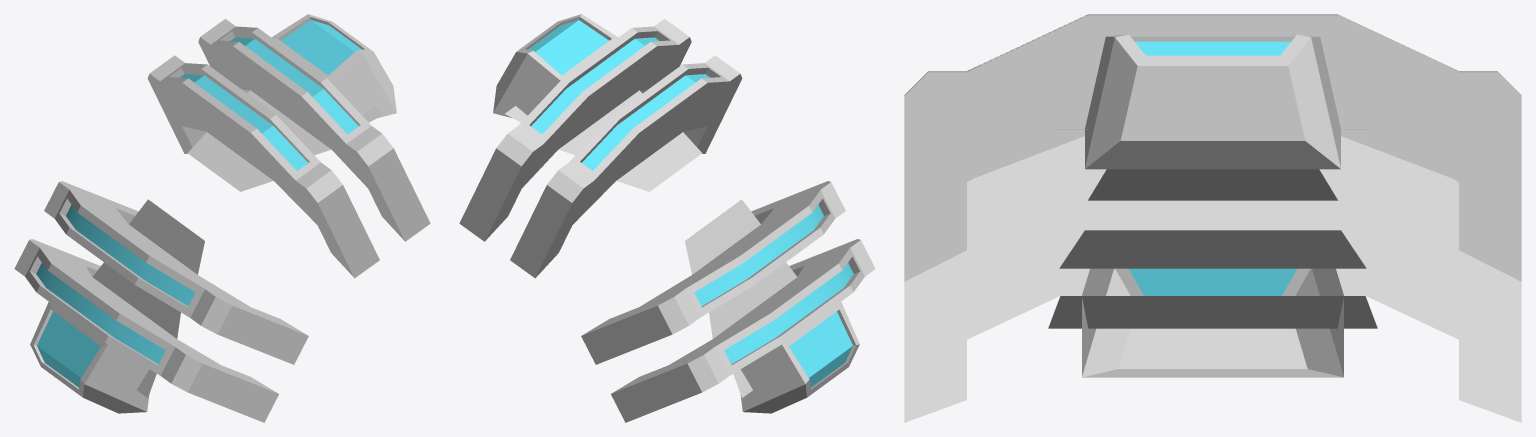
File: Mod_Pauldron_R_Forge1.fbx
3 renders of one model, left to right at view 1: azimuth 30°, elevation 25°; view 2: azimuth 150°, elevation 25°; view 3: azimuth 270°, elevation 25°, orthographic. The views are drawn at different scales.
Parts seen in each view (by area): view 1: Mod_Pauldron_R_Forge1; view 2: Mod_Pauldron_R_Forge1; view 3: Mod_Pauldron_R_Forge1.
Part boxes in pixels (<box>): Mod_Pauldron_R_Forge1: <box>14,14,430,422</box>; Mod_Pauldron_R_Forge1: <box>459,14,875,422</box>; Mod_Pauldron_R_Forge1: <box>904,14,1521,422</box>.
Bounding box in the file's own units: 285 × 264 × 270.
